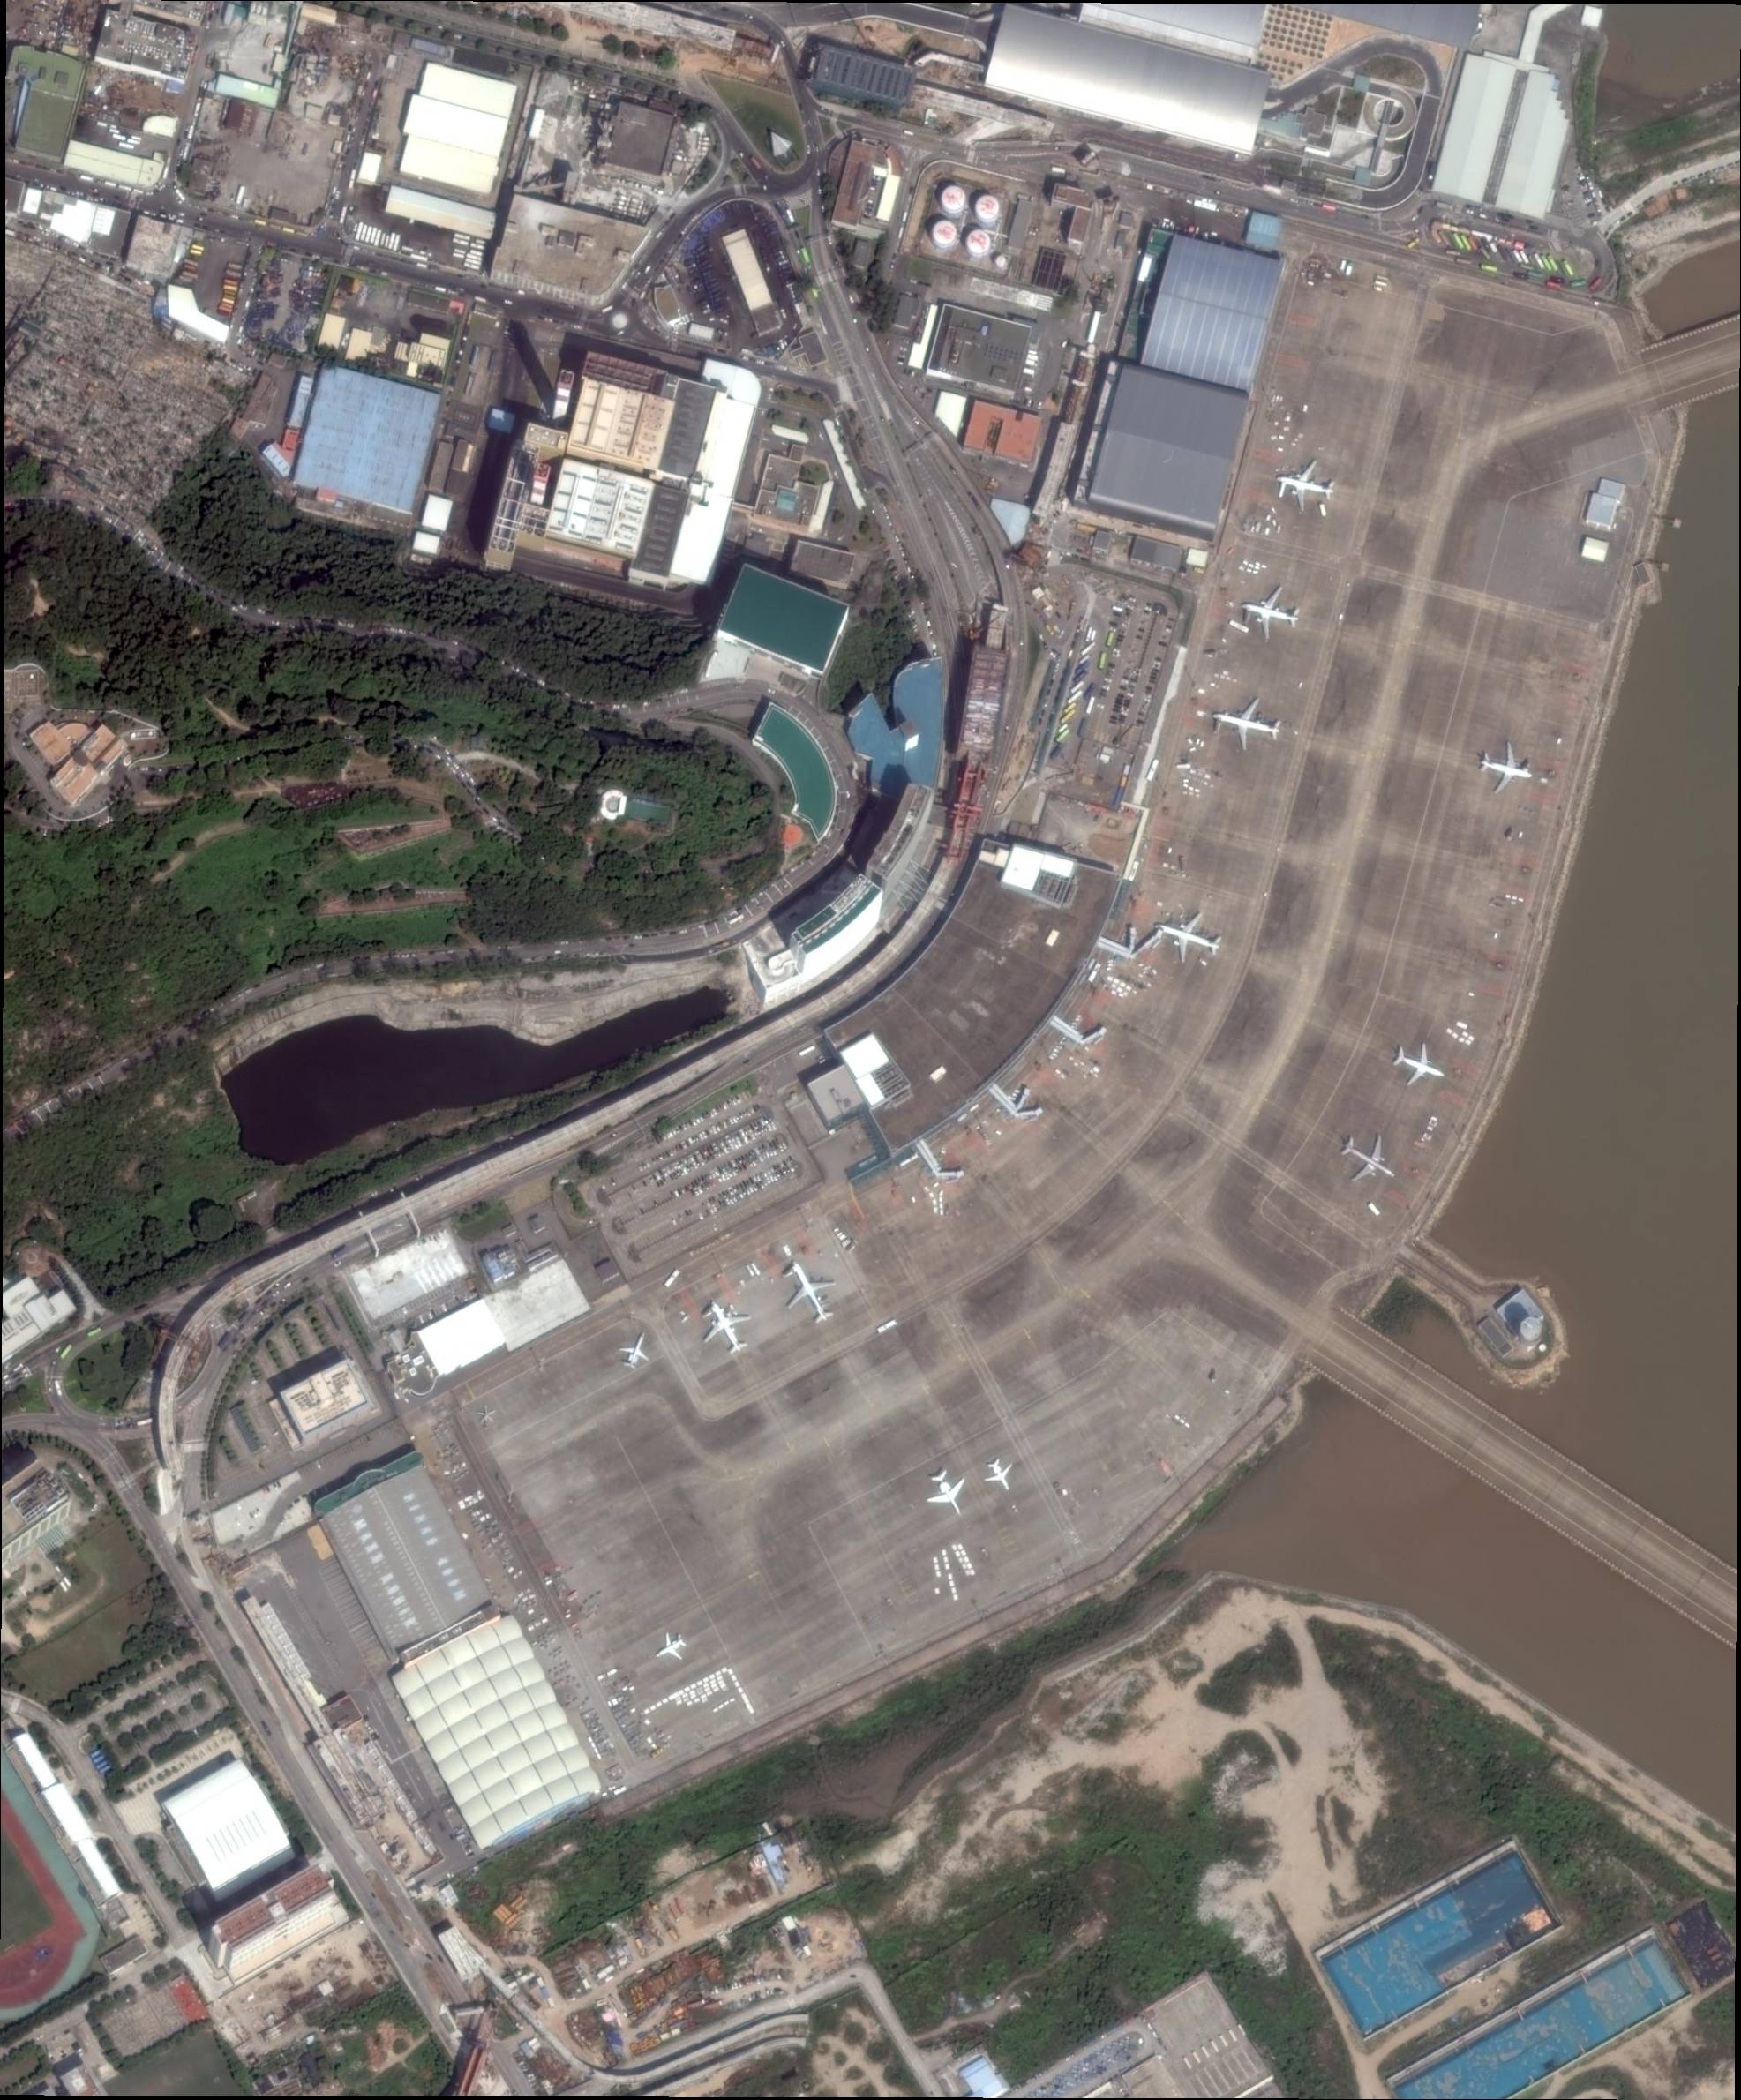bridge: (1308, 1315, 1736, 1650), (1661, 314, 1739, 405)
helicopter: (476, 1404, 497, 1432)
plane: (1319, 1113, 1420, 1207), (1202, 682, 1298, 767), (768, 1247, 855, 1340), (1144, 902, 1239, 982), (1235, 574, 1315, 658), (1467, 727, 1547, 808), (1270, 447, 1348, 527), (1380, 1027, 1460, 1106), (687, 1291, 766, 1371), (912, 1456, 980, 1528), (972, 1446, 1031, 1505), (642, 1620, 700, 1678), (611, 1320, 661, 1376)
roundabout: (611, 309, 632, 331)
storage tank: (928, 220, 959, 253), (937, 183, 968, 215), (973, 192, 1003, 225), (965, 228, 994, 260), (1519, 1317, 1544, 1341), (996, 255, 1010, 269)
